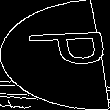P_E: (5, 34, 105, 76)
